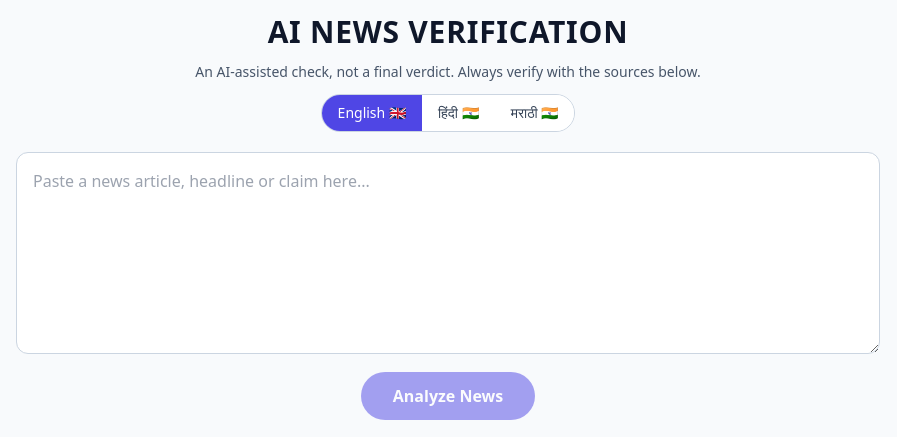
Marathi is available and localises the UI
Click the button "मराठी 🇮🇳": click(535, 113) x1=495 y1=95 x2=574 y2=131
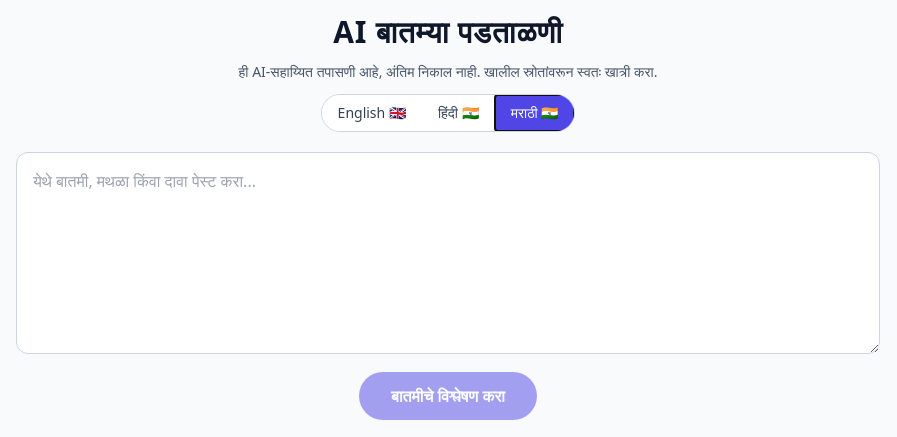
expect the button "बातमीचे विश्लेषण करा" is shown: met, box x1=359 y1=372 x2=537 y2=420
